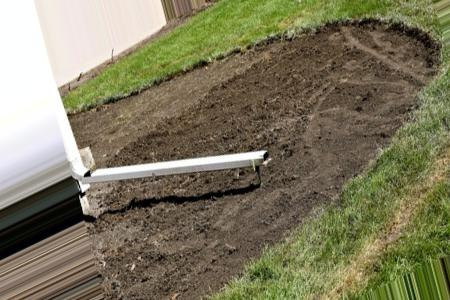patch: (112, 207, 246, 260), (83, 112, 265, 147), (153, 91, 294, 115), (279, 126, 333, 188), (212, 67, 369, 85), (304, 90, 387, 119), (255, 195, 294, 223)
